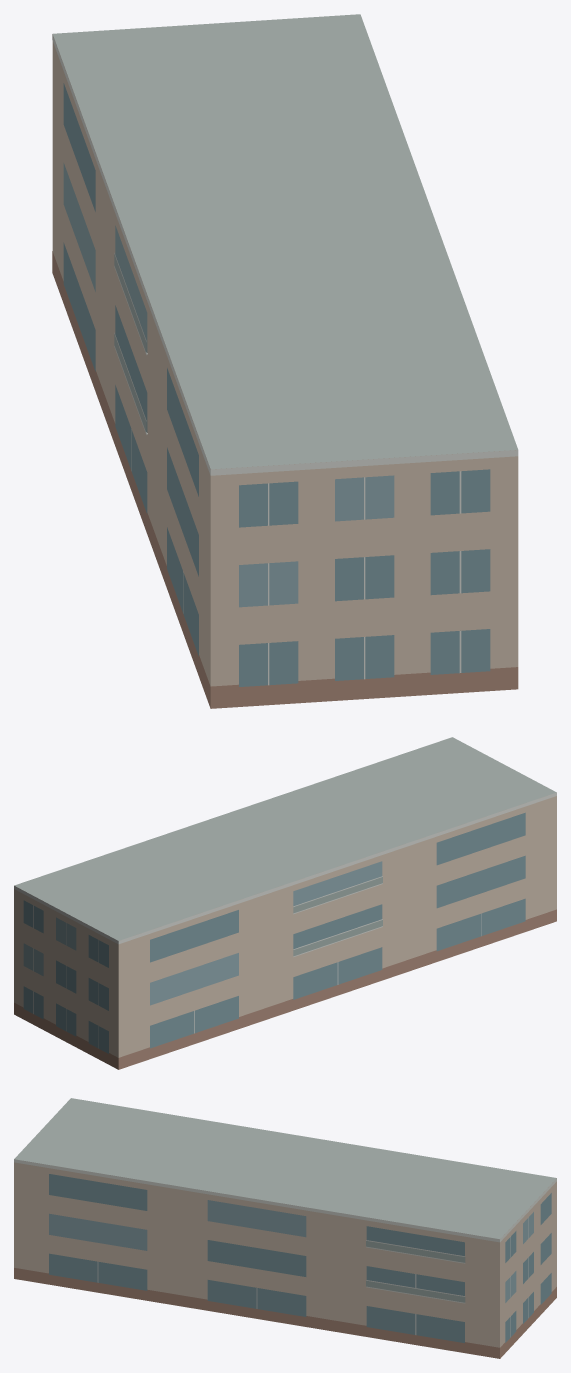
The model's file is survey-upis-32808622.glb.
3 renders of one model, top to bottom at view 1: azimuth 30°, elevation 25°; view 2: azimuth 150°, elevation 25°; view 3: azimuth 270°, elevation 25°, orthographic. The views are drawn at different scales.
Visible parts, largest first — view 1: survey-upis-32808622.tmp; view 2: survey-upis-32808622.tmp; view 3: survey-upis-32808622.tmp.
Boxes of the visible parts, bbox=[...] form: survey-upis-32808622.tmp: bbox=[52, 14, 518, 708]; survey-upis-32808622.tmp: bbox=[14, 737, 556, 1069]; survey-upis-32808622.tmp: bbox=[14, 1098, 556, 1358].
Size of the model in its own units: 23.17 by 9.15 by 37.63.
